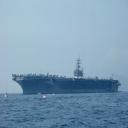Portanaves: (12, 55, 123, 97)
